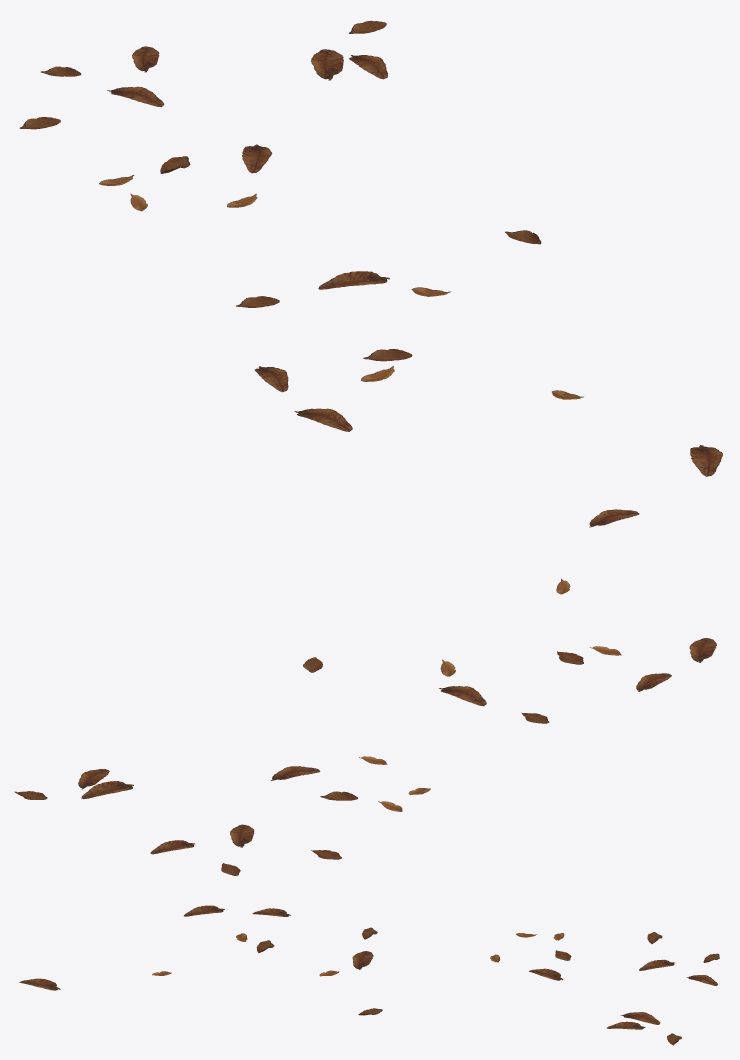
Rendered from SM_DriedLeaves3.fbx.
3 views of the same model, one above another, from view 1: azimuth 30°, elevation 25°; view 2: azimuth 150°, elevation 25°; view 3: azimuth 270°, elevation 25° (orthographic). The views are drawn at different scales.
Visible parts, largest first — view 1: SM_DriedLeaves3; view 2: SM_DriedLeaves3; view 3: SM_DriedLeaves3.
Part boxes in pixels (box(x1,y1,x2,y2)): SM_DriedLeaves3: box(19, 20, 722, 476); SM_DriedLeaves3: box(14, 509, 716, 875); SM_DriedLeaves3: box(19, 905, 719, 1045).
Bounding box in the file's own units: 236 × 506 × 6.67.
